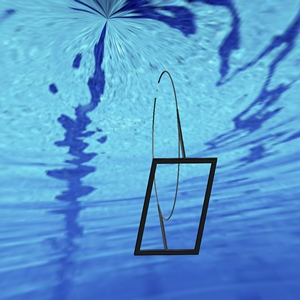circle: (133, 69, 219, 256)
